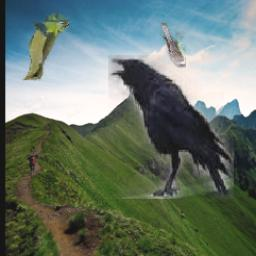Crow: (108, 55, 234, 199)
Cuckoo: (22, 12, 69, 81), (160, 24, 186, 69)
